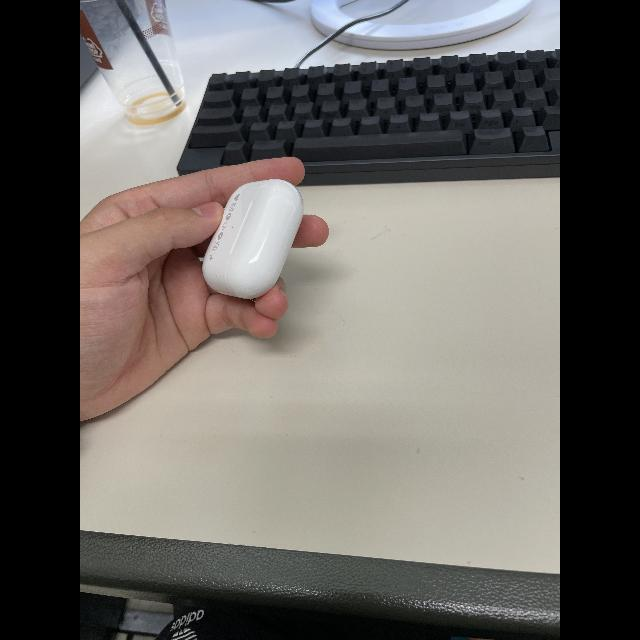airpod3: (202, 175, 304, 297)
